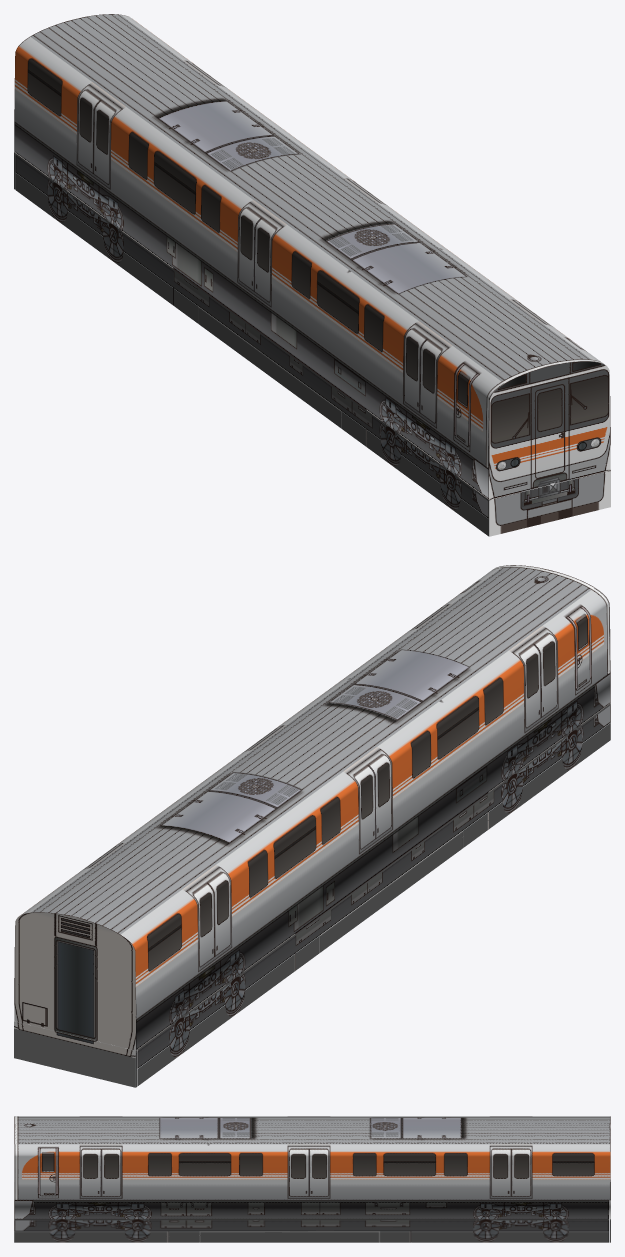
The model's file is car1.glb.
3 views of the same model, one above another, from view 1: azimuth 30°, elevation 25°; view 2: azimuth 150°, elevation 25°; view 3: azimuth 270°, elevation 25° (orthographic). The views are drawn at different scales.
Parts seen in each view (by area): view 1: jr-tokai-315-car1; view 2: jr-tokai-315-car1; view 3: jr-tokai-315-car1.
Part boxes in pixels (box(x1,y1,x2,y2)): jr-tokai-315-car1: box(14, 14, 610, 536); jr-tokai-315-car1: box(14, 565, 610, 1087); jr-tokai-315-car1: box(14, 1116, 610, 1242).
Bounding box in the file's own units: 2.98 × 3.63 × 20.13.
Materials: 9 (8 with a texture image).
